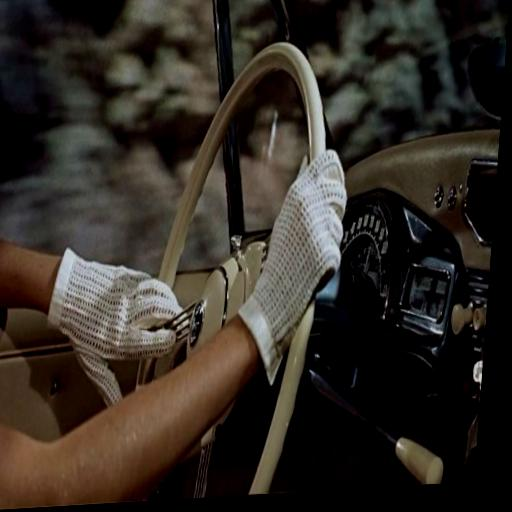Hands-on-the-Wheel: (233, 140, 358, 365)
